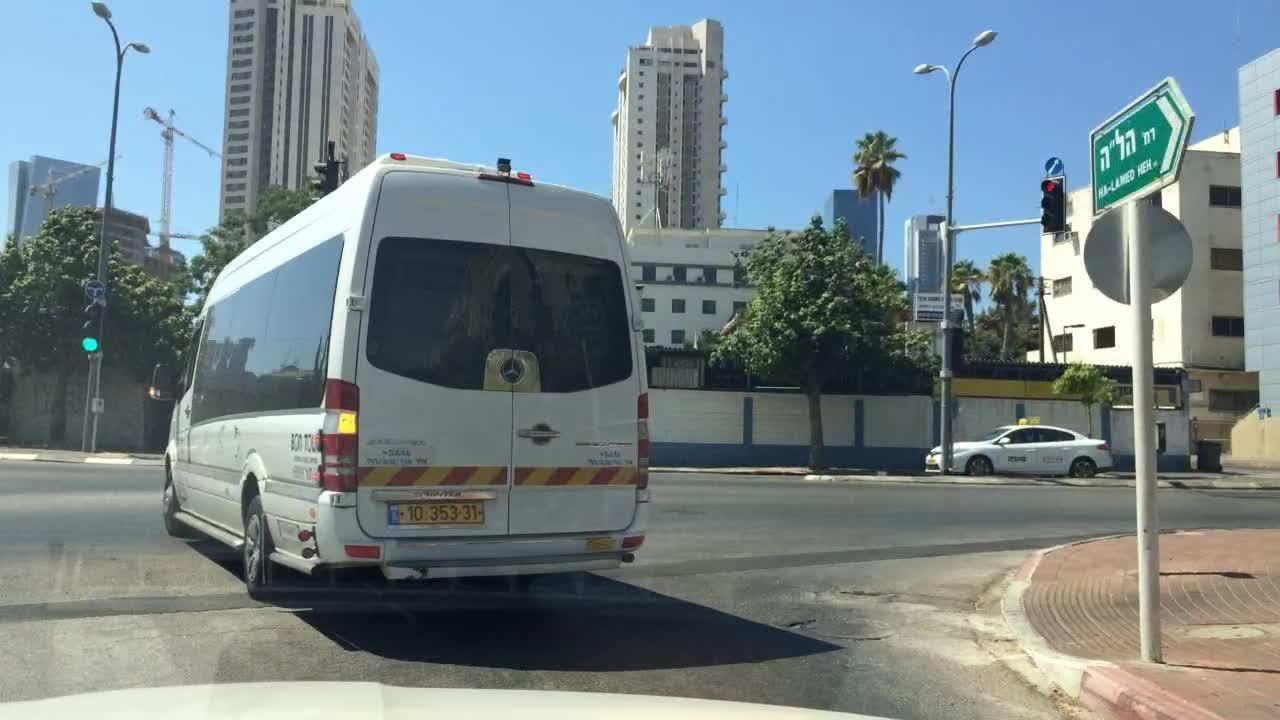Mercedes: (490, 342, 533, 387)
